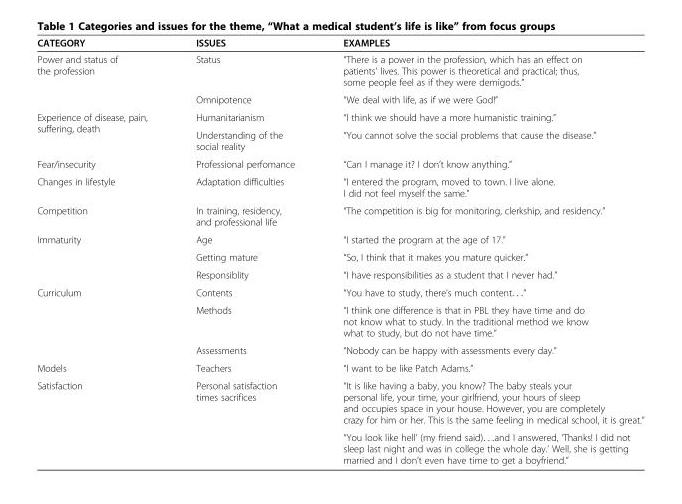table: (36, 36, 643, 465)
table column: (318, 36, 643, 465), (170, 36, 318, 465), (36, 36, 170, 465)
table column header: (36, 36, 643, 50)
table row: (36, 376, 643, 428), (36, 300, 643, 341), (36, 50, 643, 90), (36, 428, 643, 465), (36, 125, 643, 154), (36, 172, 643, 201), (36, 201, 643, 230), (36, 90, 643, 108), (36, 154, 643, 172), (36, 247, 643, 265), (36, 265, 643, 283), (36, 358, 643, 376), (36, 108, 643, 125), (36, 230, 643, 247), (36, 283, 643, 300), (36, 341, 643, 358), (36, 36, 643, 50)
table spanning cell: (36, 376, 170, 465), (36, 283, 170, 358), (36, 50, 170, 108), (36, 230, 170, 283), (36, 108, 170, 154)
